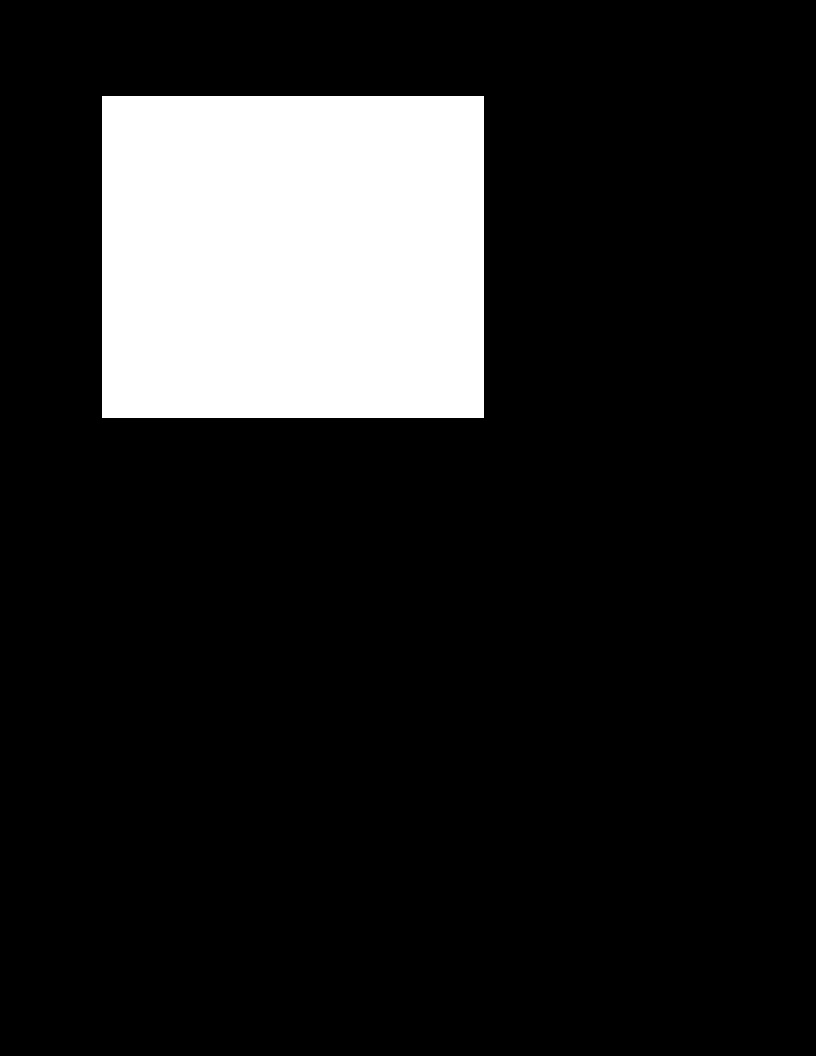table: (102, 96, 483, 417)
